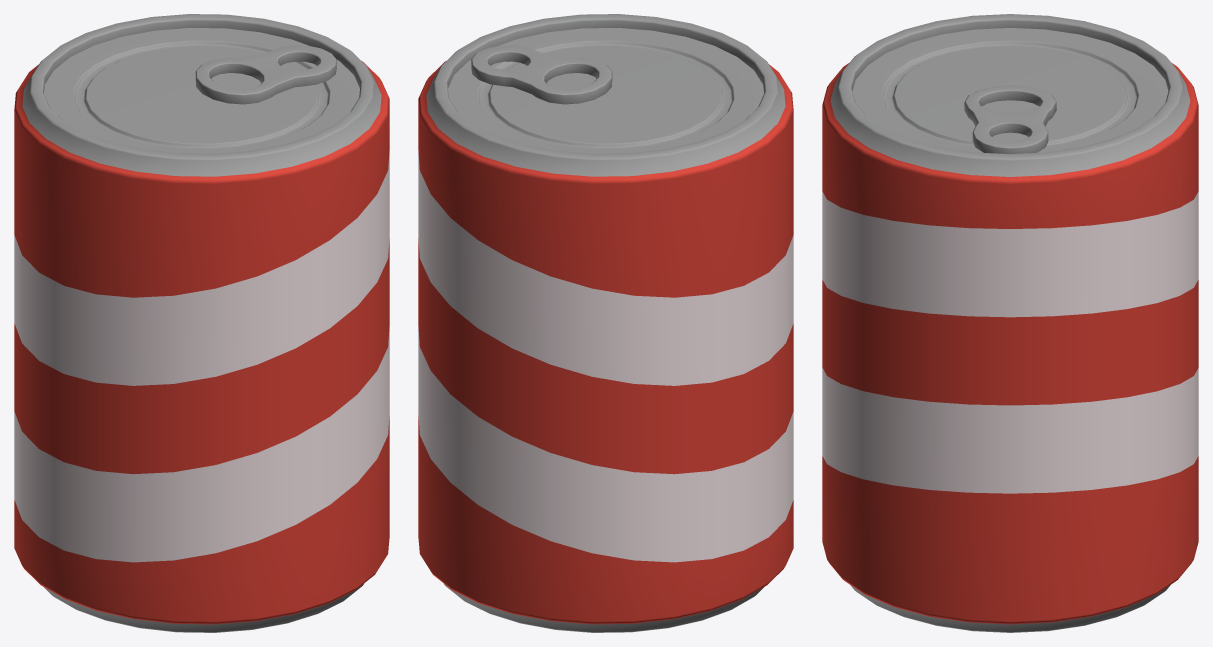
File: Soda_Can_1.fbx
The picture shows the model from 3 angles, left to right: view 1: azimuth 30°, elevation 25°; view 2: azimuth 150°, elevation 25°; view 3: azimuth 270°, elevation 25°; orthographic projection.
Visible parts, largest first — view 1: Soda_Can_1; view 2: Soda_Can_1; view 3: Soda_Can_1.
Part boxes in pixels (x1=…): Soda_Can_1: x1=14, y1=14, x2=389, y2=632; Soda_Can_1: x1=418, y1=14, x2=793, y2=632; Soda_Can_1: x1=822, y1=14, x2=1198, y2=632.
Size of the model in its own units: 10.96 by 15.31 by 10.96.
